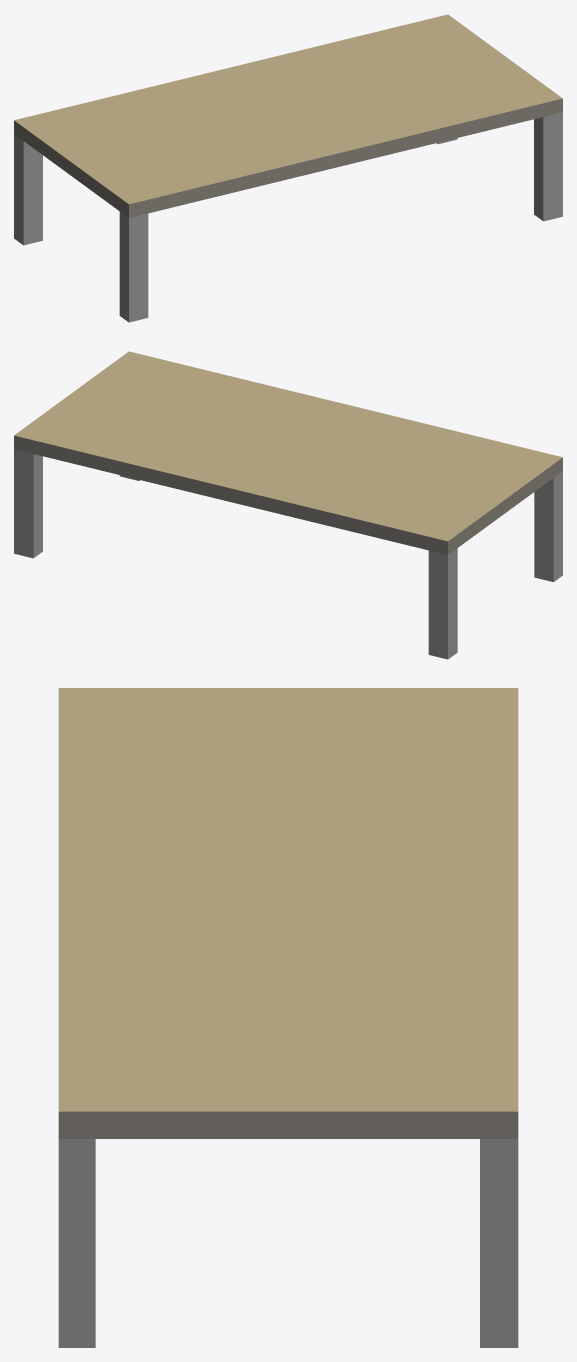
File: table.fbx
3 views of the same model, one above another, from view 1: azimuth 30°, elevation 25°; view 2: azimuth 150°, elevation 25°; view 3: azimuth 270°, elevation 25° (orthographic). The views are drawn at different scales.
Parts seen in each view (by area): view 1: pCube1; view 2: pCube1; view 3: pCube1.
Part boxes in pixels (x1,y1,x2,y2): pCube1: (14,14,562,322); pCube1: (14,351,562,659); pCube1: (58,688,518,1347).
Bounding box in the file's own units: 4.18 × 1.09 × 1.92.
